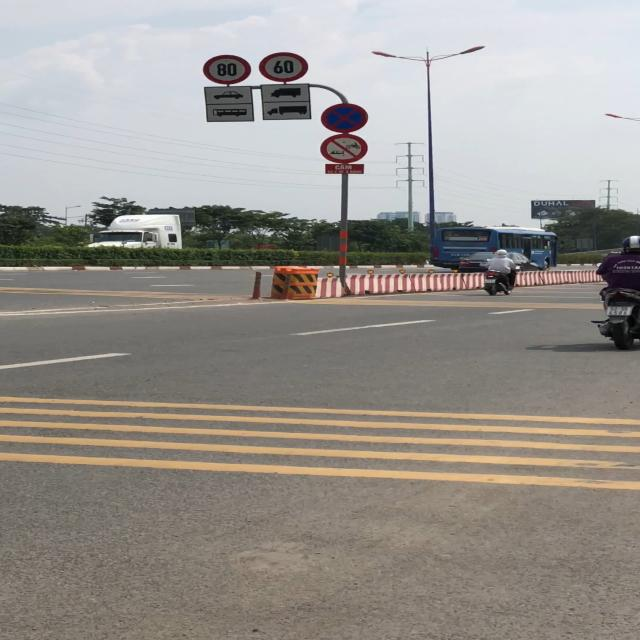Bien bao cam dung xe va do xe: (318, 101, 374, 135)
Bien bao toc do toi da cho phep: (256, 52, 312, 83), (202, 53, 253, 84)
